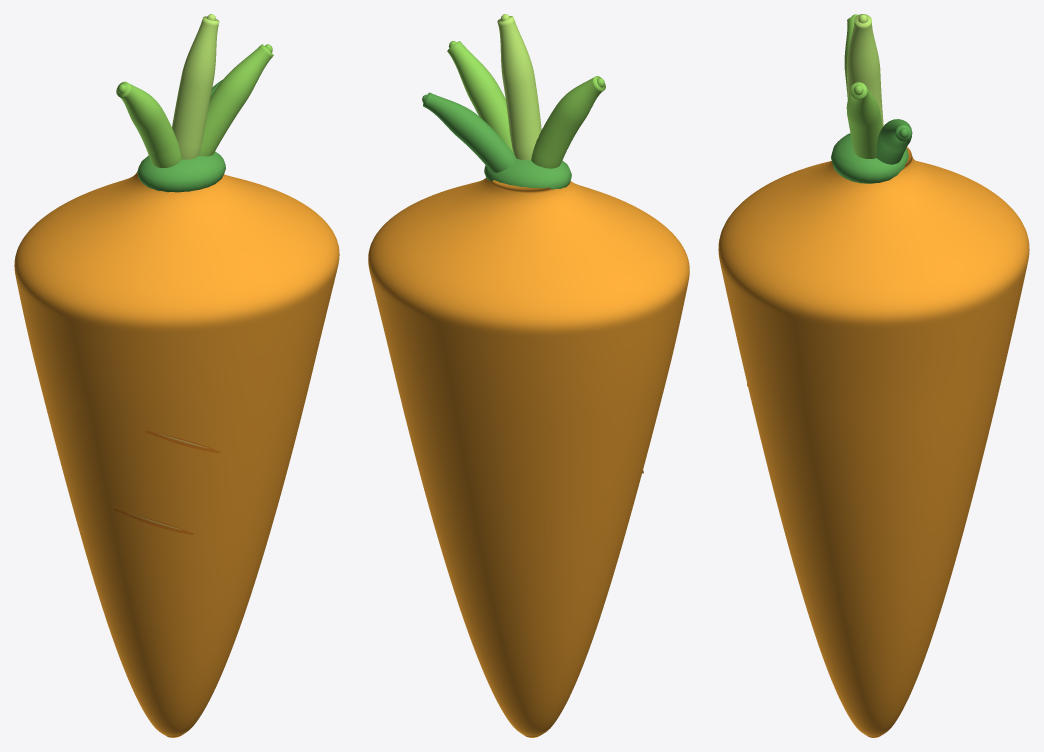
File: Crop_Carrot_Normal_v001_reference_r05.fbx
3 views of the same model, side by side, from view 1: azimuth 30°, elevation 25°; view 2: azimuth 150°, elevation 25°; view 3: azimuth 270°, elevation 25° (orthographic). The views are drawn at different scales.
Parts seen in each view (by area): view 1: Crop_Carrot_Normal_v001_Body_Reference_r05, LeafStem_CenterTall_Reference_r05, LeafStem_RightTall_Reference_r05, LeafStem_LeftBack_Reference_r05, LeafStem_GlossyRootKnot_Reference_r05; view 2: Crop_Carrot_Normal_v001_Body_Reference_r05, LeafStem_CenterTall_Reference_r05, LeafStem_LeftBack_Reference_r05, LeafStem_RightLow_Reference_r05, LeafStem_RightTall_Reference_r05, LeafStem_GlossyRootKnot_Reference_r05; view 3: Crop_Carrot_Normal_v001_Body_Reference_r05, LeafStem_CenterTall_Reference_r05, LeafStem_RightTall_Reference_r05, LeafStem_GlossyRootKnot_Reference_r05, LeafStem_RightLow_Reference_r05.
Boxes of the visible parts, left/top/right/bottom form: Crop_Carrot_Normal_v001_Body_Reference_r05: left=14, top=167, right=339, bottom=737; LeafStem_CenterTall_Reference_r05: left=172, top=16, right=219, bottom=159; LeafStem_RightTall_Reference_r05: left=199, top=44, right=273, bottom=156; LeafStem_LeftBack_Reference_r05: left=116, top=81, right=181, bottom=167; LeafStem_GlossyRootKnot_Reference_r05: left=137, top=151, right=225, bottom=192; Crop_Carrot_Normal_v001_Body_Reference_r05: left=368, top=178, right=689, bottom=737; LeafStem_CenterTall_Reference_r05: left=497, top=16, right=541, bottom=160; LeafStem_LeftBack_Reference_r05: left=531, top=76, right=605, bottom=168; LeafStem_RightLow_Reference_r05: left=423, top=92, right=516, bottom=172; LeafStem_RightTall_Reference_r05: left=447, top=41, right=513, bottom=152; LeafStem_GlossyRootKnot_Reference_r05: left=484, top=158, right=571, bottom=189; Crop_Carrot_Normal_v001_Body_Reference_r05: left=718, top=147, right=1029, bottom=737; LeafStem_CenterTall_Reference_r05: left=846, top=14, right=883, bottom=126; LeafStem_RightTall_Reference_r05: left=846, top=82, right=882, bottom=158; LeafStem_GlossyRootKnot_Reference_r05: left=831, top=133, right=908, bottom=183; LeafStem_RightLow_Reference_r05: left=876, top=119, right=912, bottom=164.
Size of the model in its own units: 107 by 257 by 97.99.
